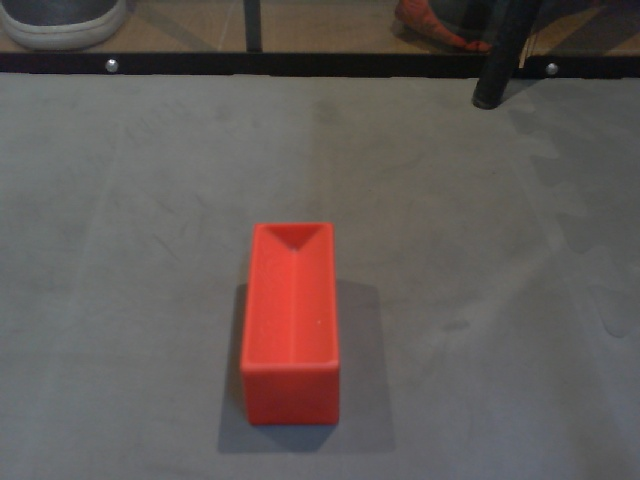RedSample: (238, 220, 344, 430)
